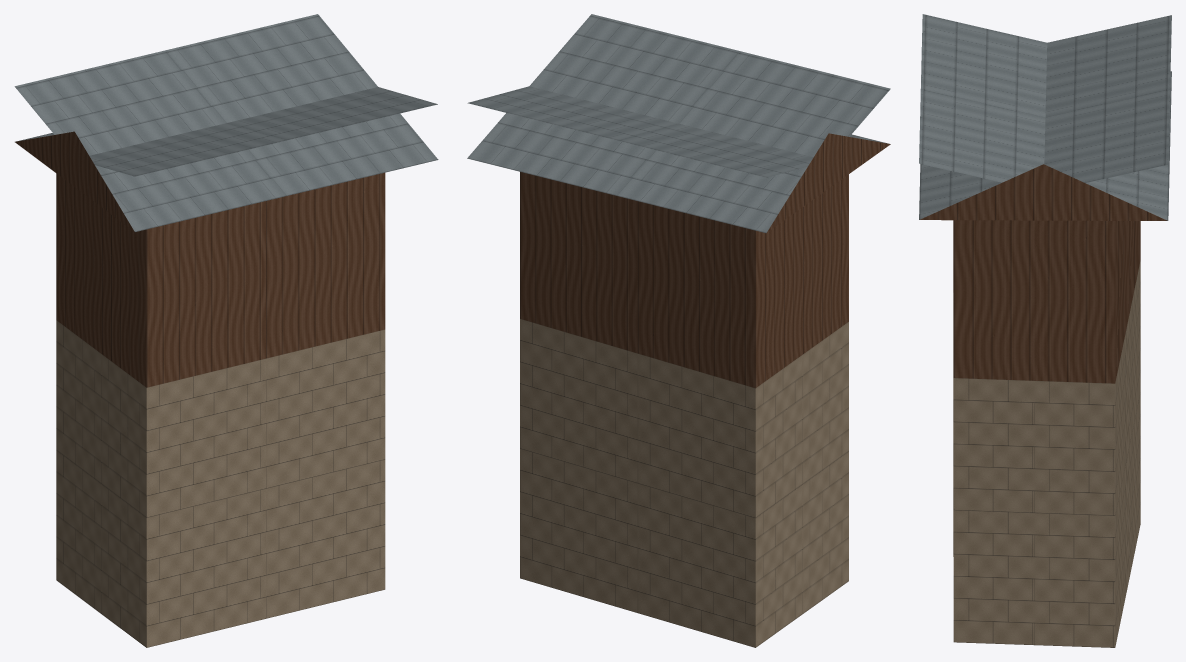
The model's file is bld_c2_-14_668.gltf.
3 views of the same model, side by side, from view 1: azimuth 30°, elevation 25°; view 2: azimuth 150°, elevation 25°; view 3: azimuth 270°, elevation 25° (orthographic).
Parts seen in each view (by area): view 1: bld_c2_-14_668; view 2: bld_c2_-14_668; view 3: bld_c2_-14_668.
Boxes of the visible parts, x1=… form: bld_c2_-14_668: x1=14, y1=14, x2=438, y2=647; bld_c2_-14_668: x1=467, y1=14, x2=890, y2=647; bld_c2_-14_668: x1=919, y1=14, x2=1171, y2=647.
Size of the model in its own units: 5.73 by 8.8 by 4.06.
4 materials, 4 textured.
